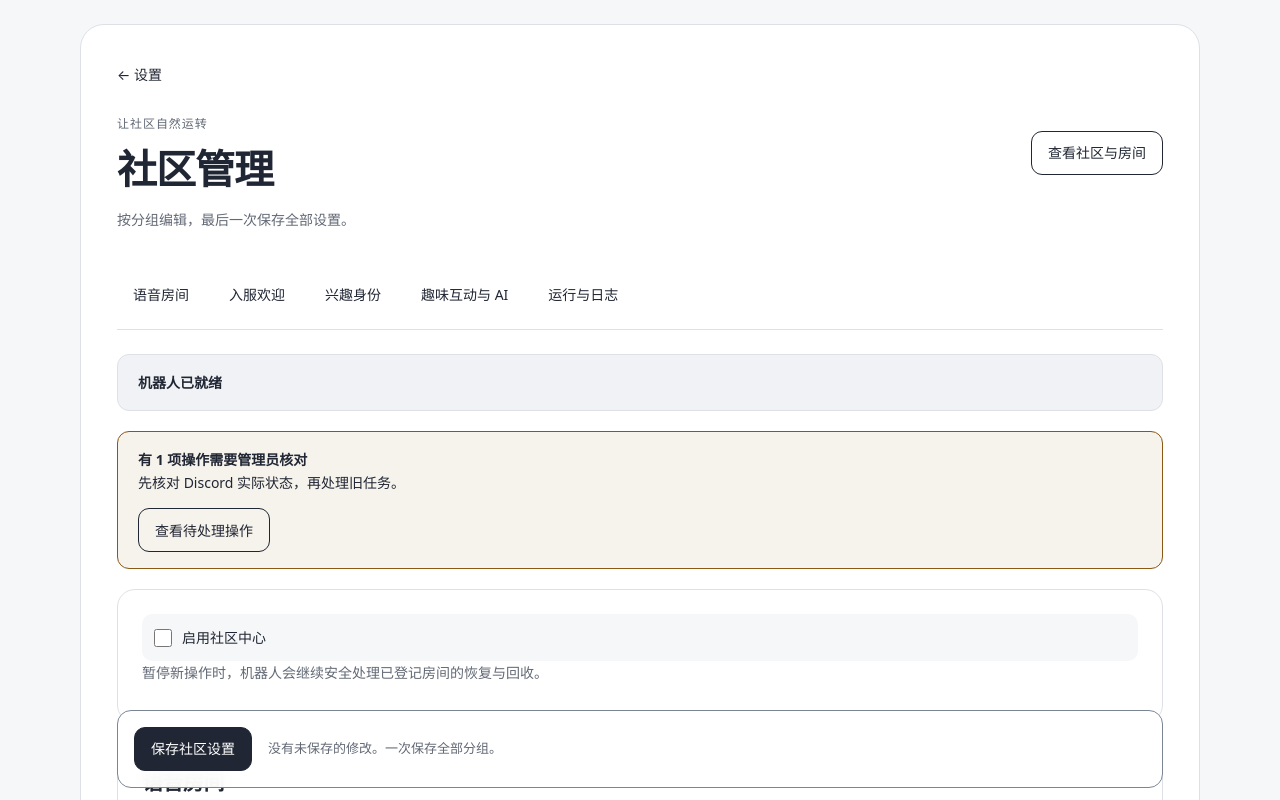
Test: reports backend failure without claiming a saved or applied version
Click the button "保存社区设置" at (193, 749), box [134,727,252,771]
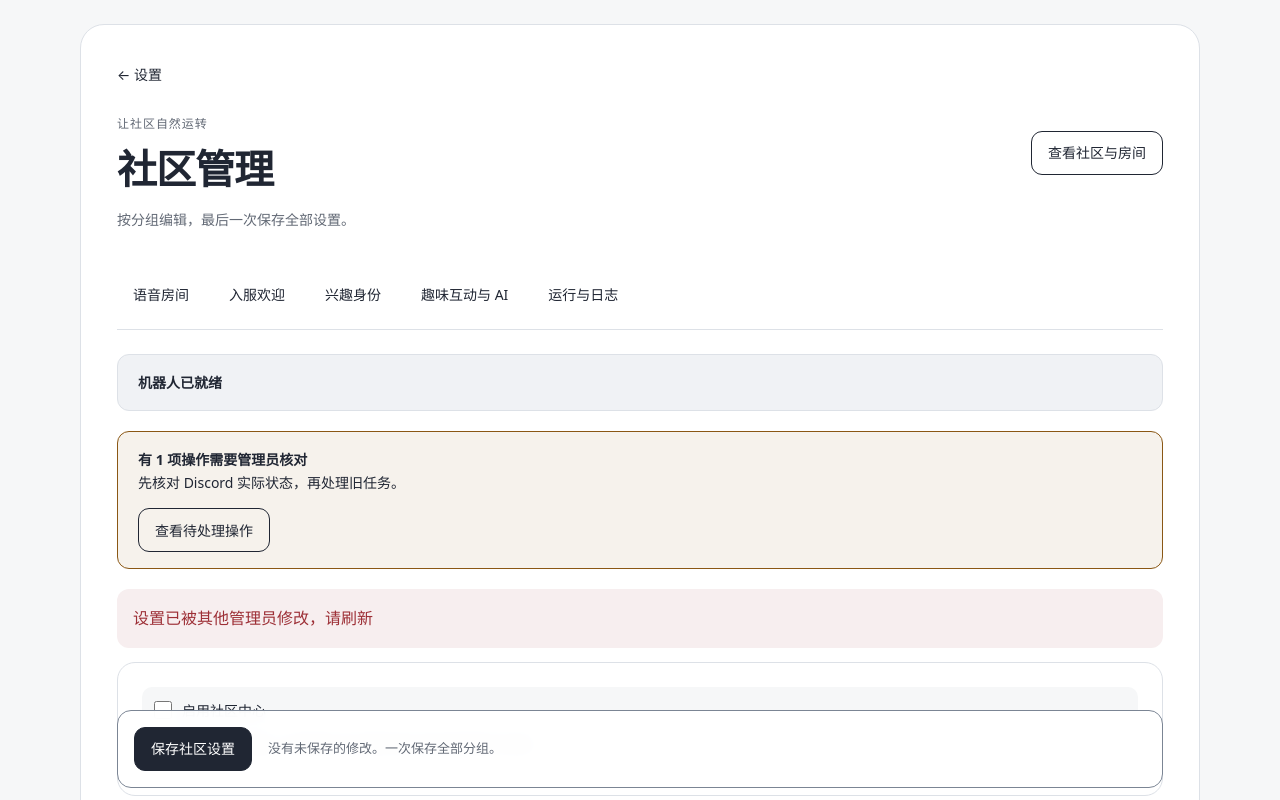
Expected: the message "设置已被其他管理员修改，请刷新" is shown, [117,589,1163,648]
